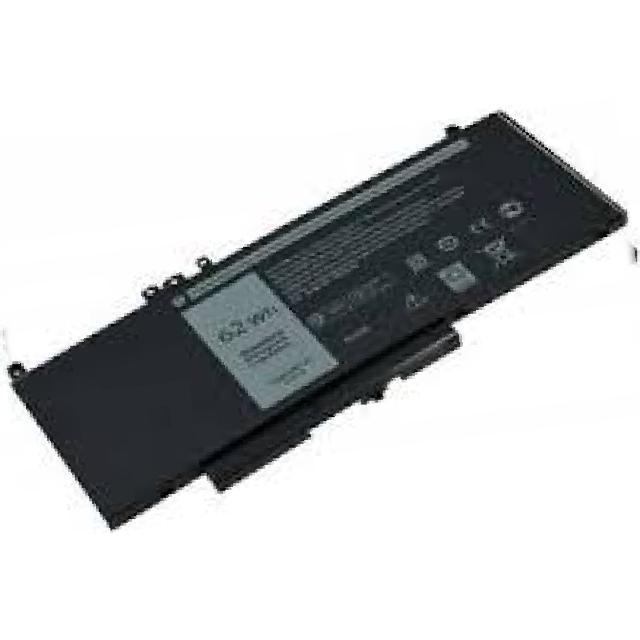Battery: (0, 78, 640, 538)
